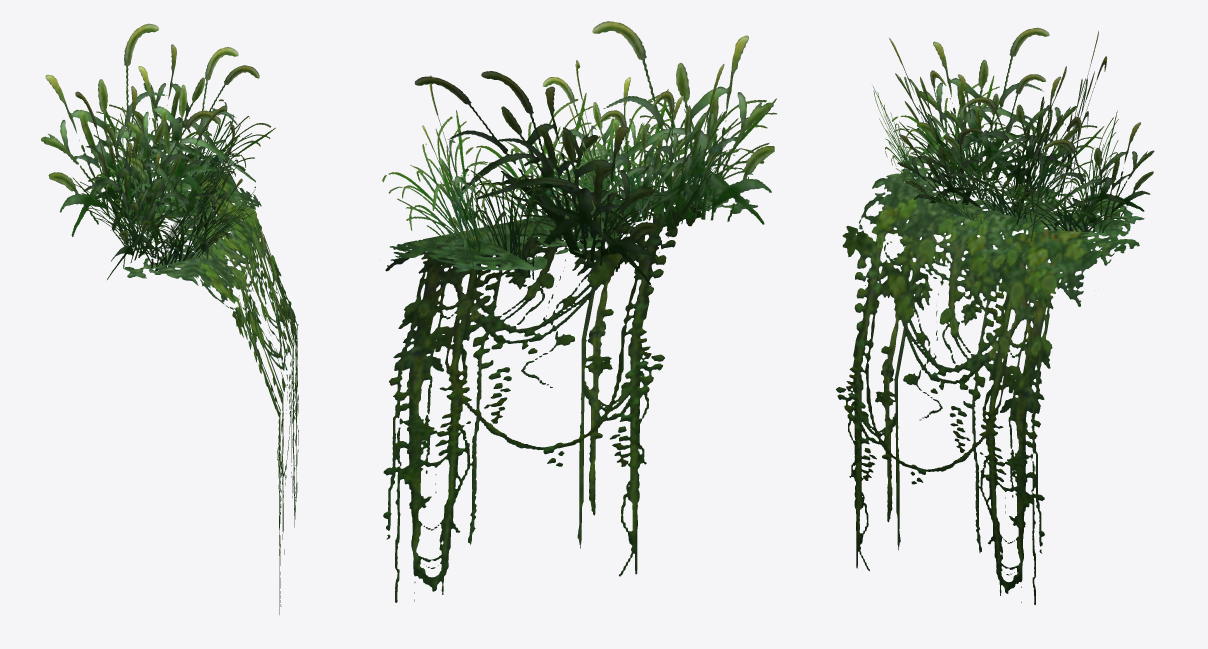
Rendered from wm_灌木杂草丛01.fbx.
3 views of the same model, side by side, from view 1: azimuth 30°, elevation 25°; view 2: azimuth 150°, elevation 25°; view 3: azimuth 270°, elevation 25° (orthographic). The views are drawn at different scales.
Visible parts, largest first — view 1: wm_灌木杂草丛01; view 2: wm_灌木杂草丛01; view 3: wm_灌木杂草丛01.
Part boxes in pixels (left/top/right/bottom): wm_灌木杂草丛01: left=41, top=23, right=298, bottom=614; wm_灌木杂草丛01: left=382, top=21, right=776, bottom=602; wm_灌木杂草丛01: left=836, top=27, right=1154, bottom=604.
Bounding box in the file's own units: 138 × 228 × 151.
